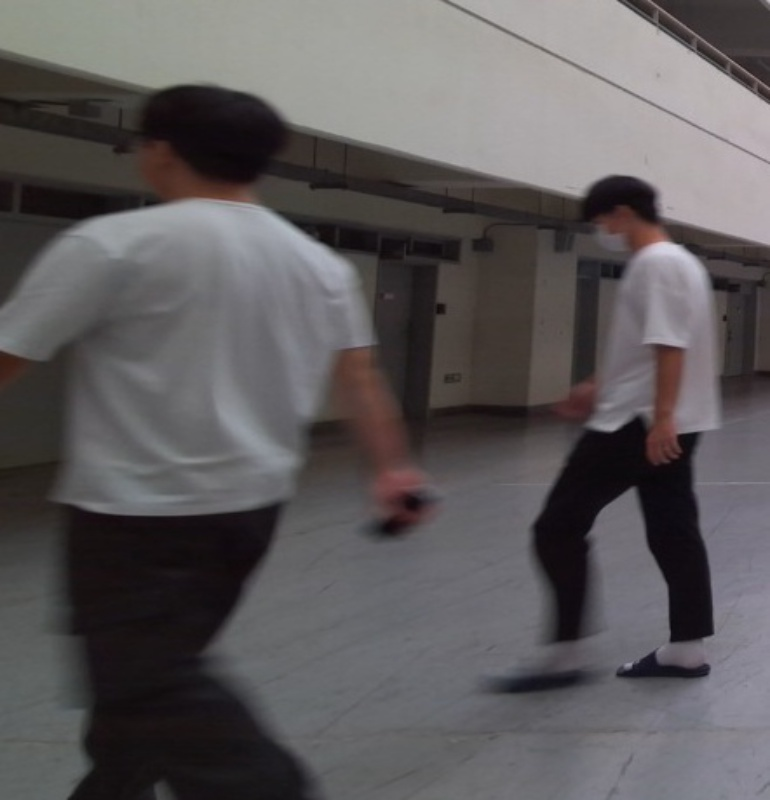person: (487, 172, 725, 682)
